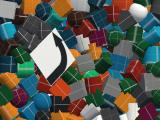Left: (30, 28, 76, 86)
